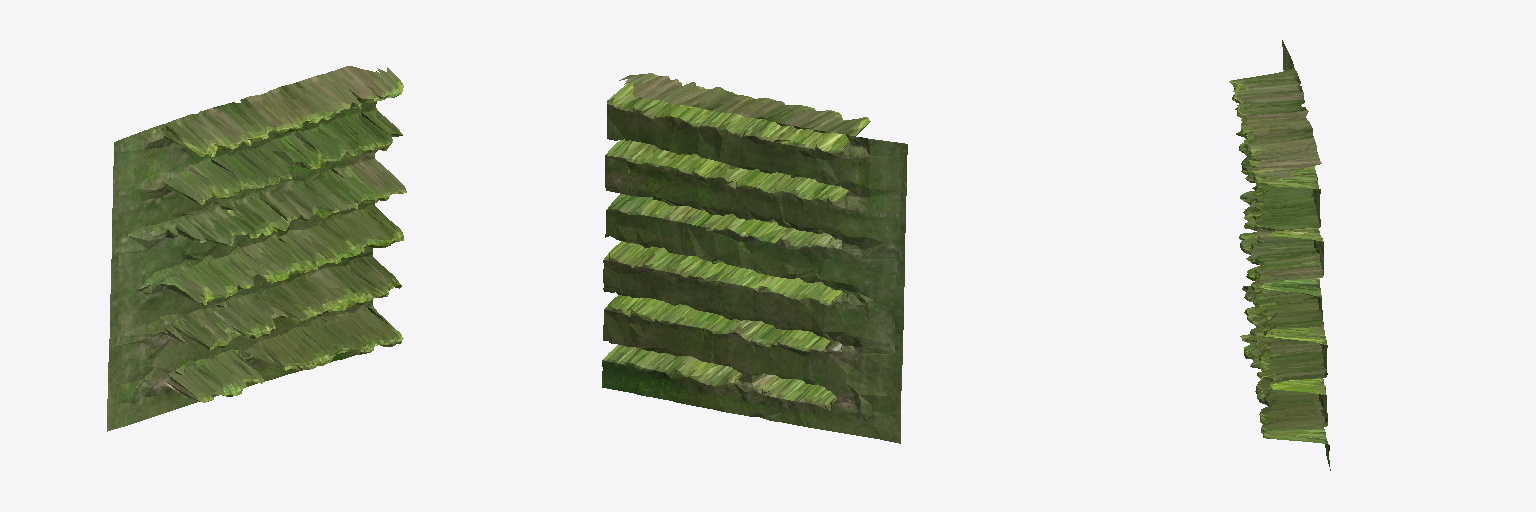
3 renders of one model, left to right at view 1: azimuth 30°, elevation 25°; view 2: azimuth 150°, elevation 25°; view 3: azimuth 270°, elevation 25°, orthographic.
Visible parts, largest first — view 1: grp1; view 2: grp1; view 3: grp1.
Boxes of the visible parts, x1=… form: grp1: x1=107, y1=66, x2=406, y2=431; grp1: x1=602, y1=73, x2=907, y2=443; grp1: x1=1229, y1=40, x2=1330, y2=470.
Size of the model in its own units: 10 by 10 by 3.13.
1 materials, 1 textured.